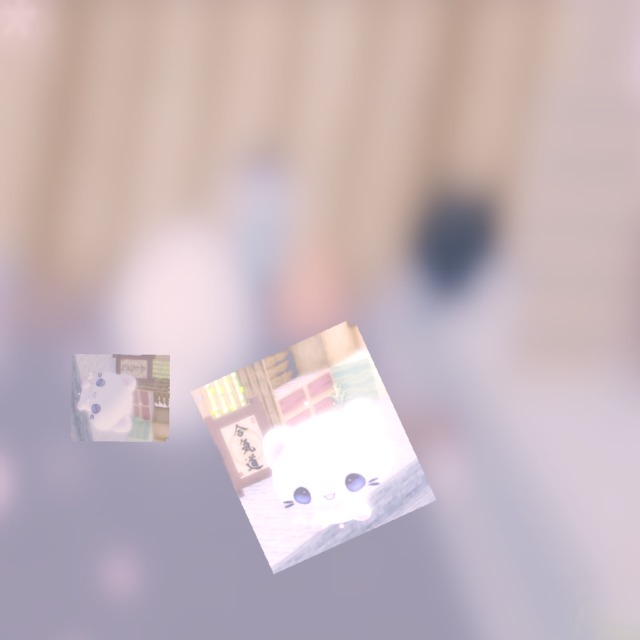urso_branco: (190, 317, 437, 575), (71, 354, 170, 442)
